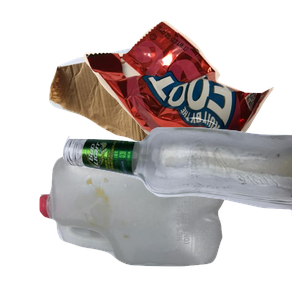cardboard: (46, 40, 226, 179)
glass: (60, 124, 300, 300)
plastic: (37, 147, 254, 300)
trash: (81, 18, 300, 182)
